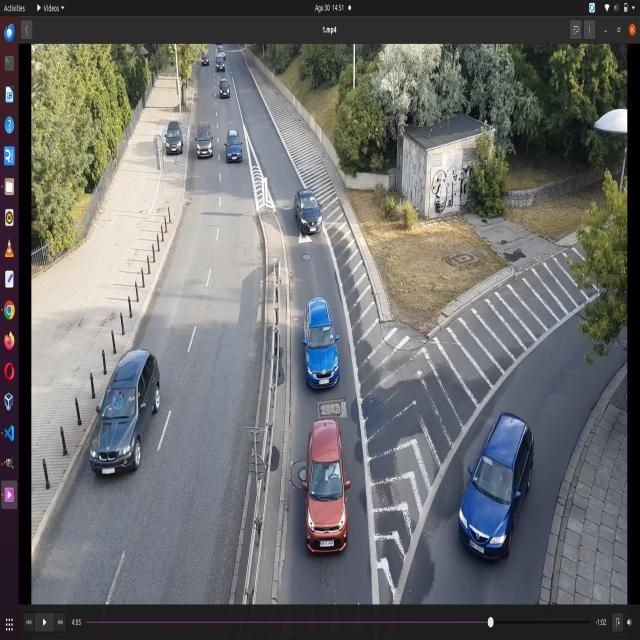person_with_seatbelt: (324, 462, 340, 481)
